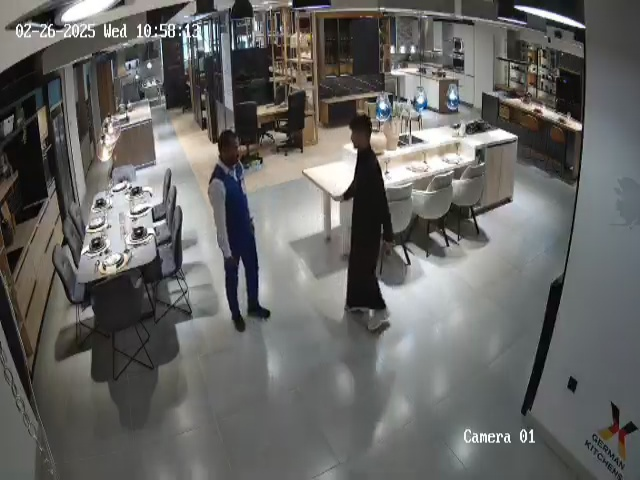employee: (208, 130, 271, 333)
male: (331, 113, 394, 332)
